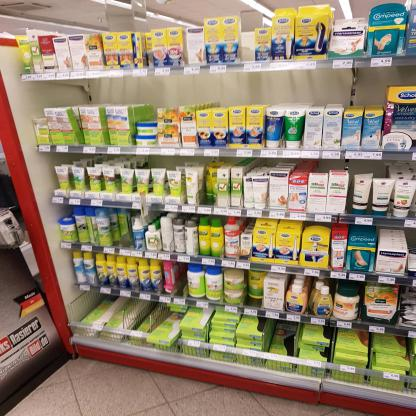Void: (242, 17, 253, 60)
